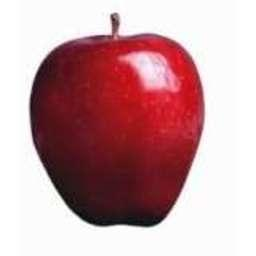apple: (30, 27, 204, 227)
